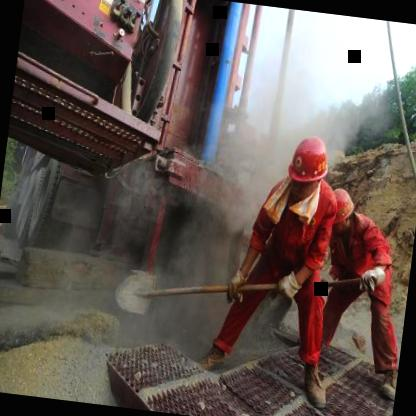helmet: (282, 128, 332, 208), (322, 182, 360, 237)
